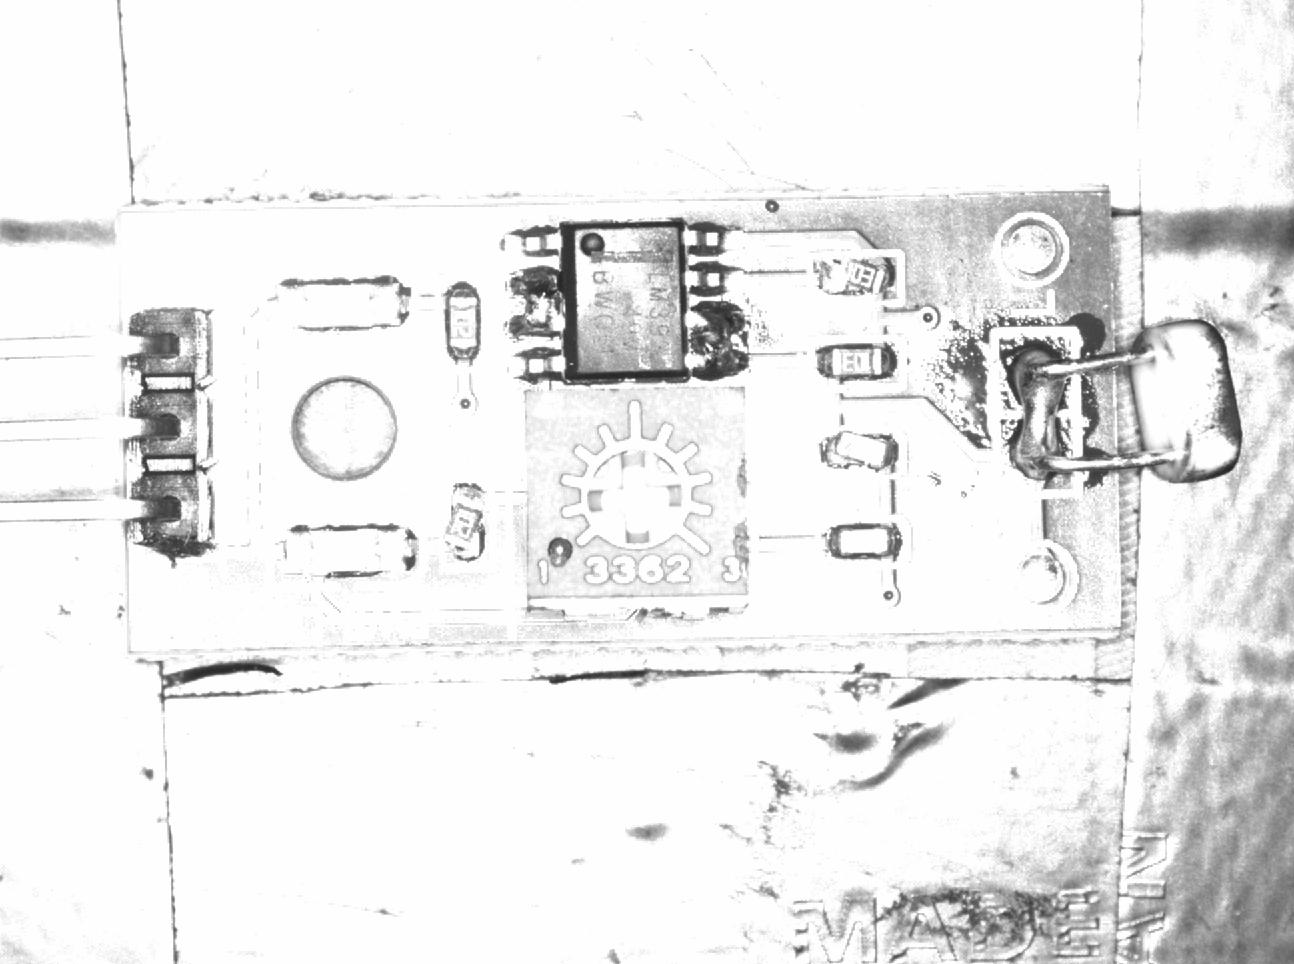bridge: (990, 325, 1095, 505), (491, 260, 573, 351), (684, 299, 756, 385)
lifted: (438, 469, 501, 583), (806, 425, 908, 486), (811, 253, 906, 301)
ok: (806, 333, 906, 394), (810, 513, 913, 569), (435, 268, 488, 375)
